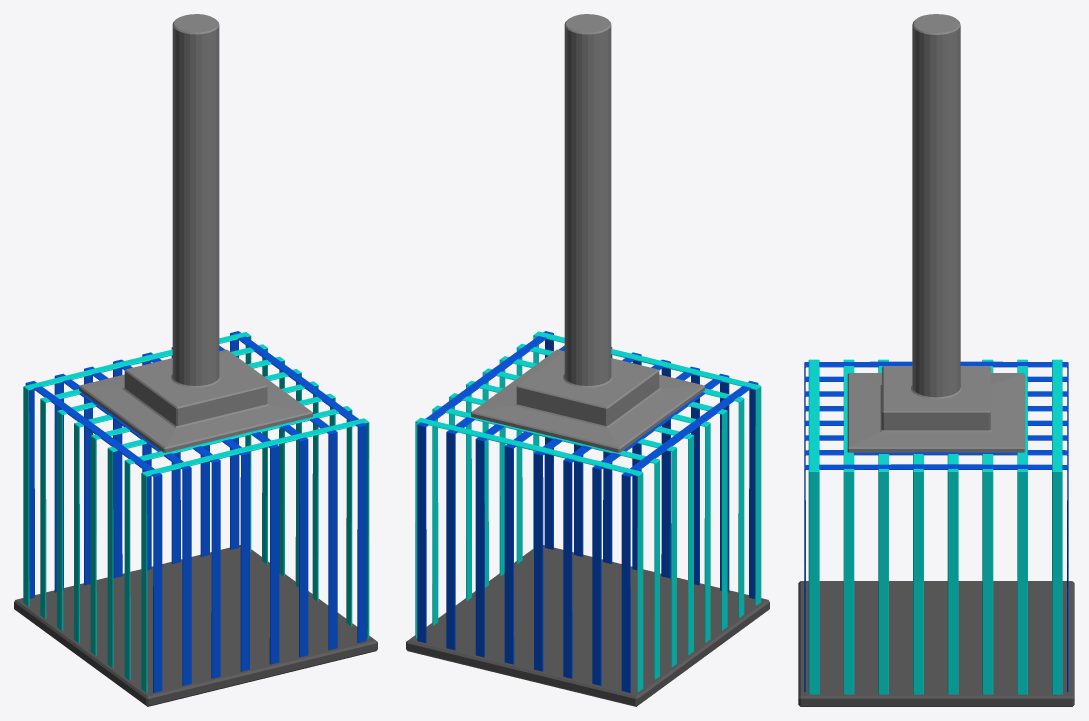
The model's file is cage_high.fbx.
3 views of the same model, side by side, from view 1: azimuth 30°, elevation 25°; view 2: azimuth 150°, elevation 25°; view 3: azimuth 270°, elevation 25° (orthographic). The views are drawn at different scales.
Visible parts, largest first — view 1: Cube.001, cage.003, bottom.001, cage.002; view 2: cage.003, Cube.001, bottom.001, cage.002; view 3: Cube.001, bottom.001, cage.002, cage.003.
Part boxes in pixels (bbox=[...]): Cube.001: bbox=[79, 14, 312, 452]; cage.003: bbox=[25, 331, 366, 692]; bottom.001: bbox=[14, 545, 377, 706]; cage.002: bbox=[23, 332, 369, 692]; cage.003: bbox=[417, 331, 758, 692]; Cube.001: bbox=[471, 14, 704, 452]; bottom.001: bbox=[406, 545, 769, 706]; cage.002: bbox=[415, 331, 761, 691]; Cube.001: bbox=[847, 14, 1025, 452]; bottom.001: bbox=[798, 581, 1074, 706]; cage.002: bbox=[808, 359, 1062, 694]; cage.003: bbox=[804, 361, 1068, 692].
Size of the model in its own units: 790 by 1977 by 790.
